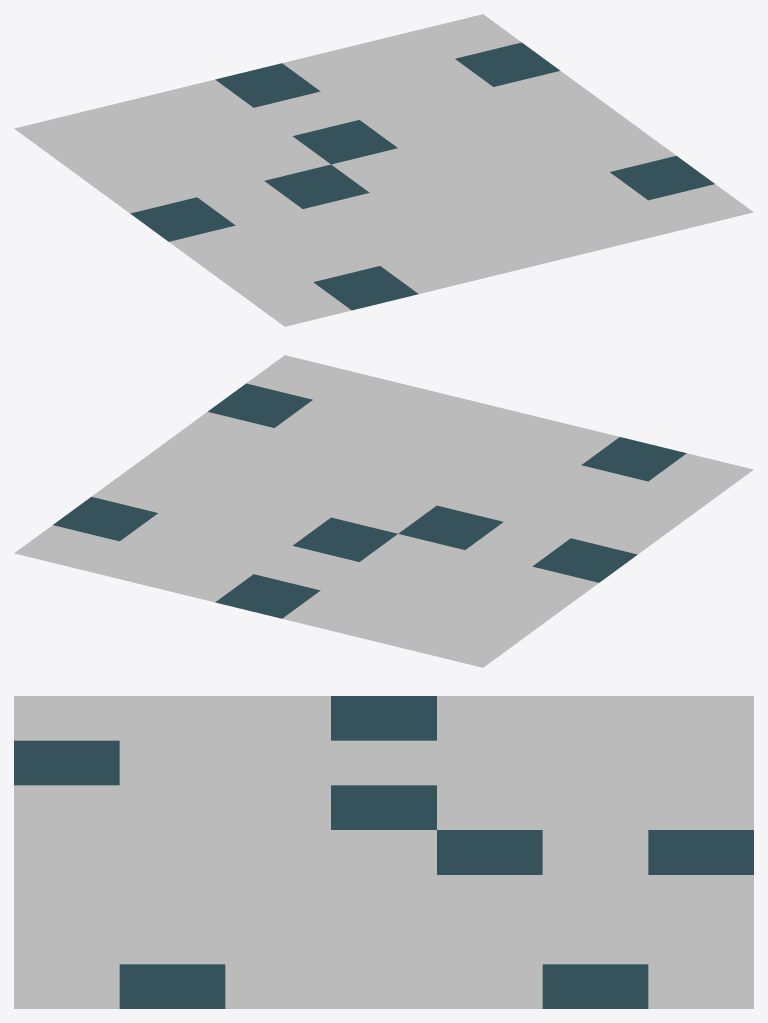
Rendered from AzulejoGrandeSoTopo.fbx.
3 renders of one model, top to bottom at view 1: azimuth 30°, elevation 25°; view 2: azimuth 150°, elevation 25°; view 3: azimuth 270°, elevation 25°, orthographic. The views are drawn at different scales.
Visible parts, largest first — view 1: AzulejoGrandeSoTopo; view 2: AzulejoGrandeSoTopo; view 3: AzulejoGrandeSoTopo.
Boxes of the visible parts, x1=… form: AzulejoGrandeSoTopo: x1=14, y1=14, x2=753, y2=326; AzulejoGrandeSoTopo: x1=14, y1=355, x2=753, y2=667; AzulejoGrandeSoTopo: x1=14, y1=696, x2=753, y2=1008.
Bounding box in the file's own units: 299 × 0 × 299.
